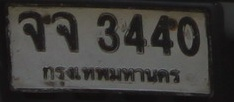txt06: (50, 10, 82, 55), (17, 10, 47, 53)
